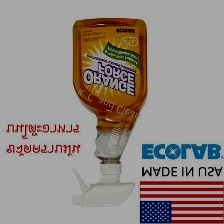cleaning_solution: (64, 16, 150, 211)
